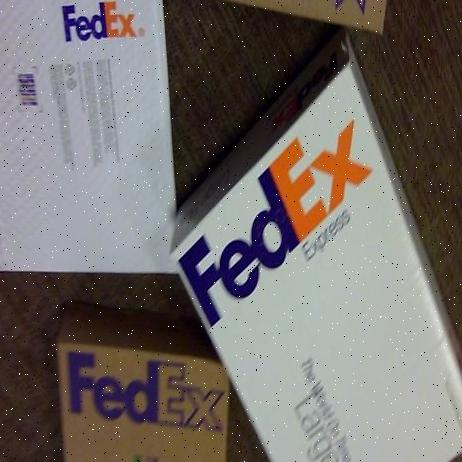Amazon: (173, 78, 462, 462), (0, 0, 157, 266), (45, 329, 233, 462)
